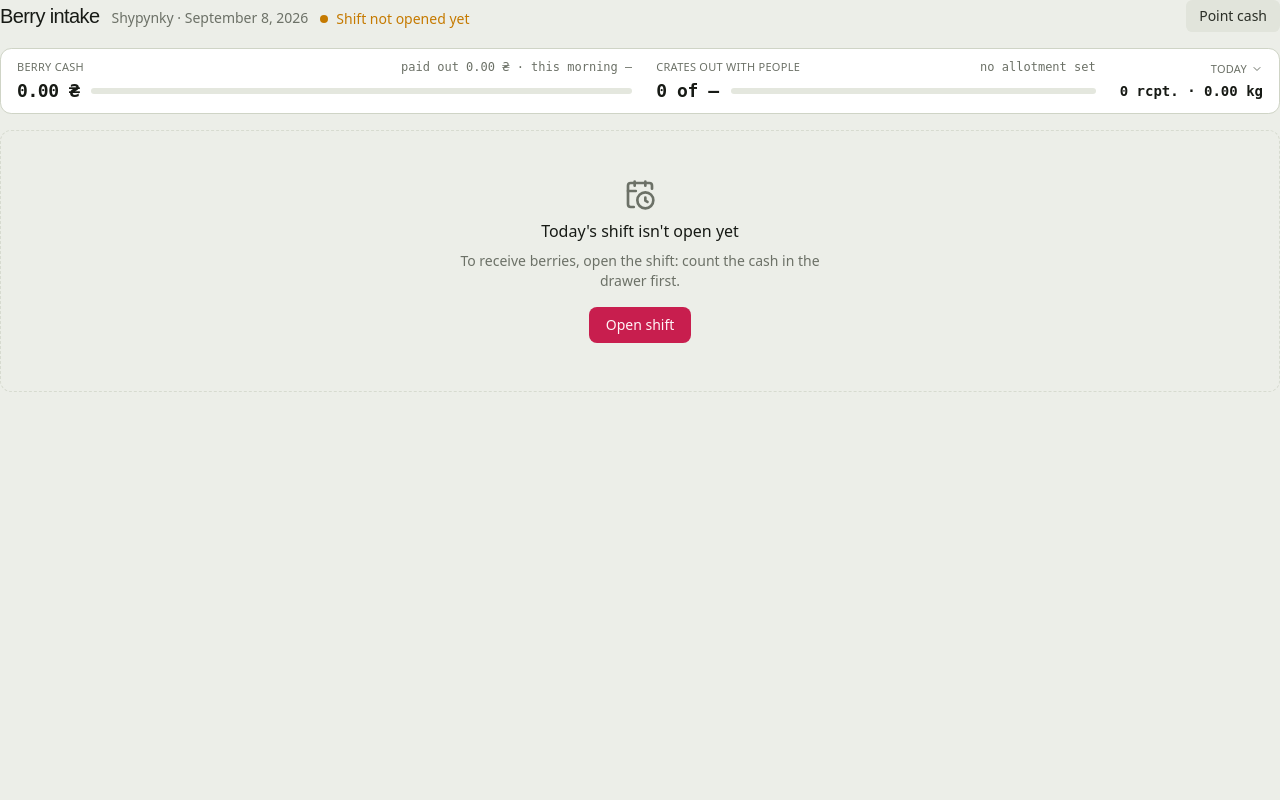
Test case: ReceptionPage — before the shift is open › shows the refusal in the shared dialog and keeps it open when opening fails
Click the button "Open shift".
click(640, 325)  # box [589,307,691,343]
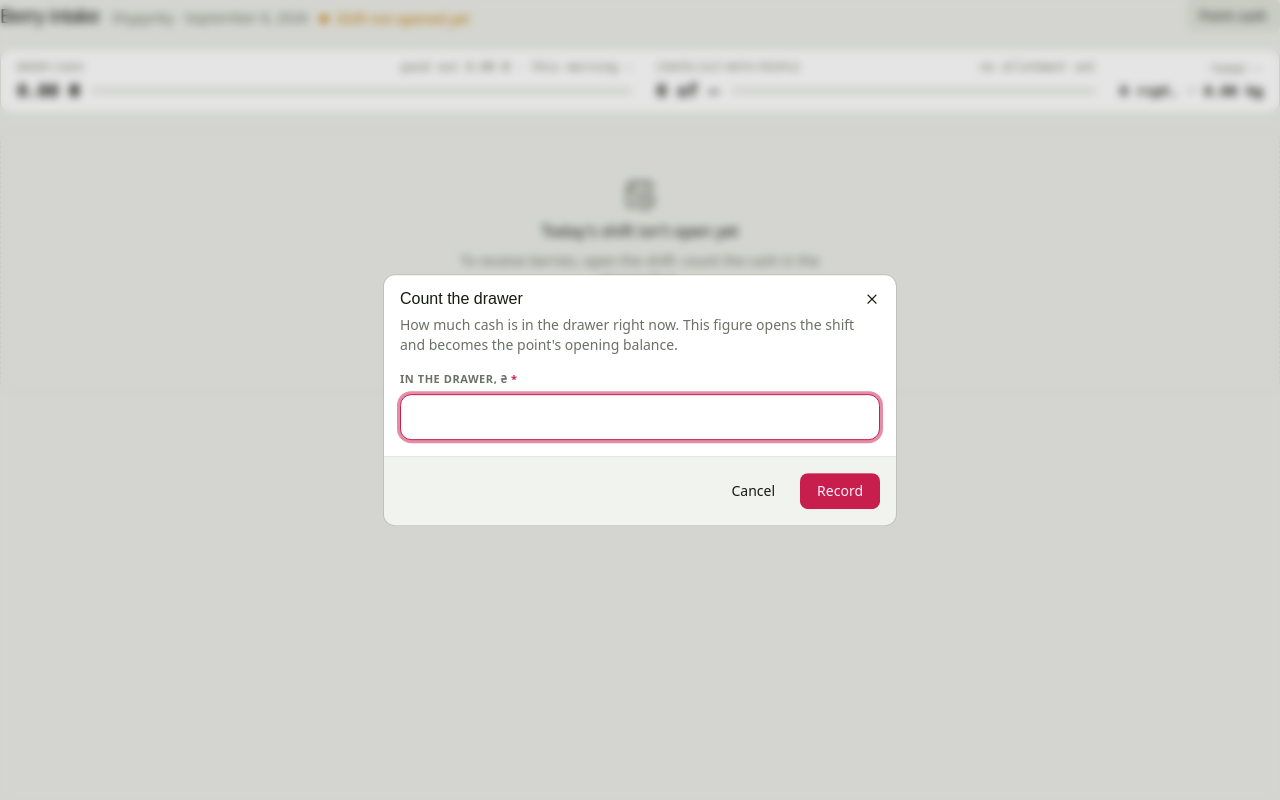
Type "1500.00" into the field.
click(640, 417); type("1500.00")  # box [400,394,880,440]
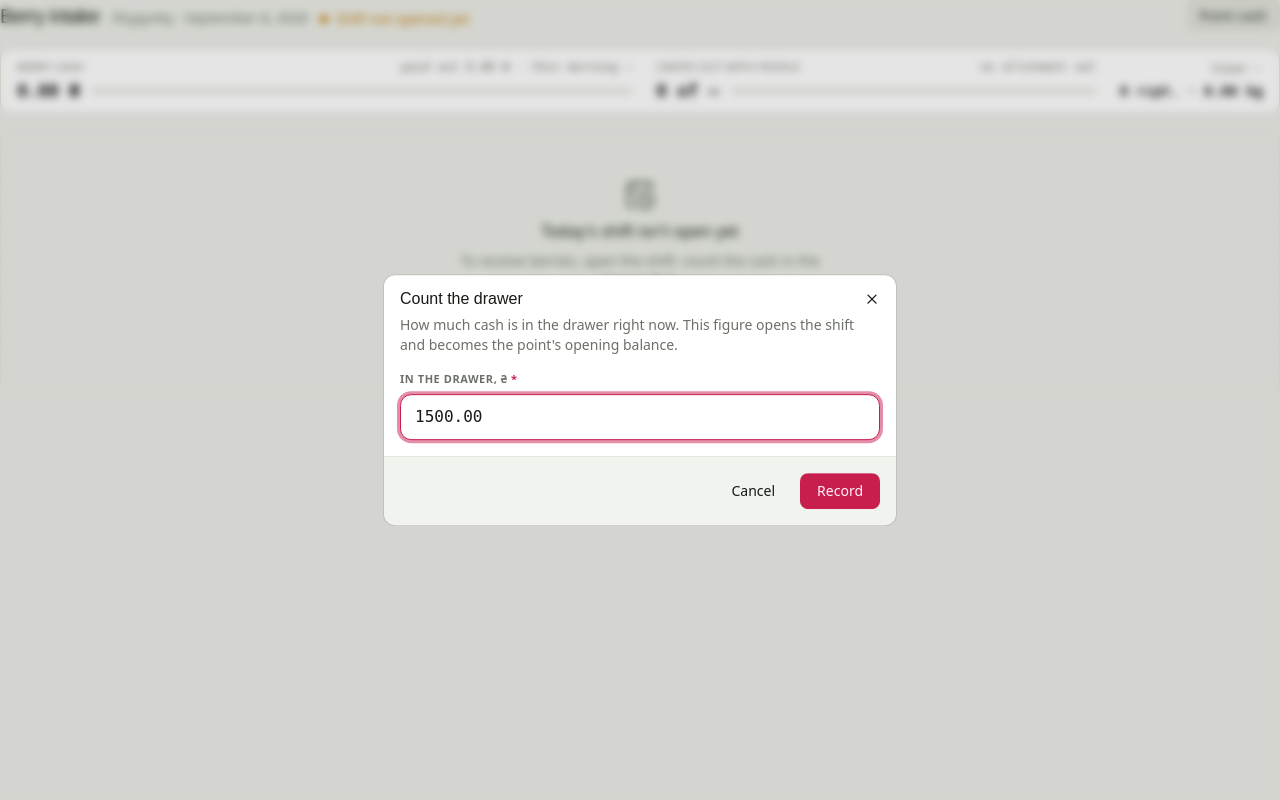
Click the button "Record".
click(840, 491)  # box [800,473,880,509]
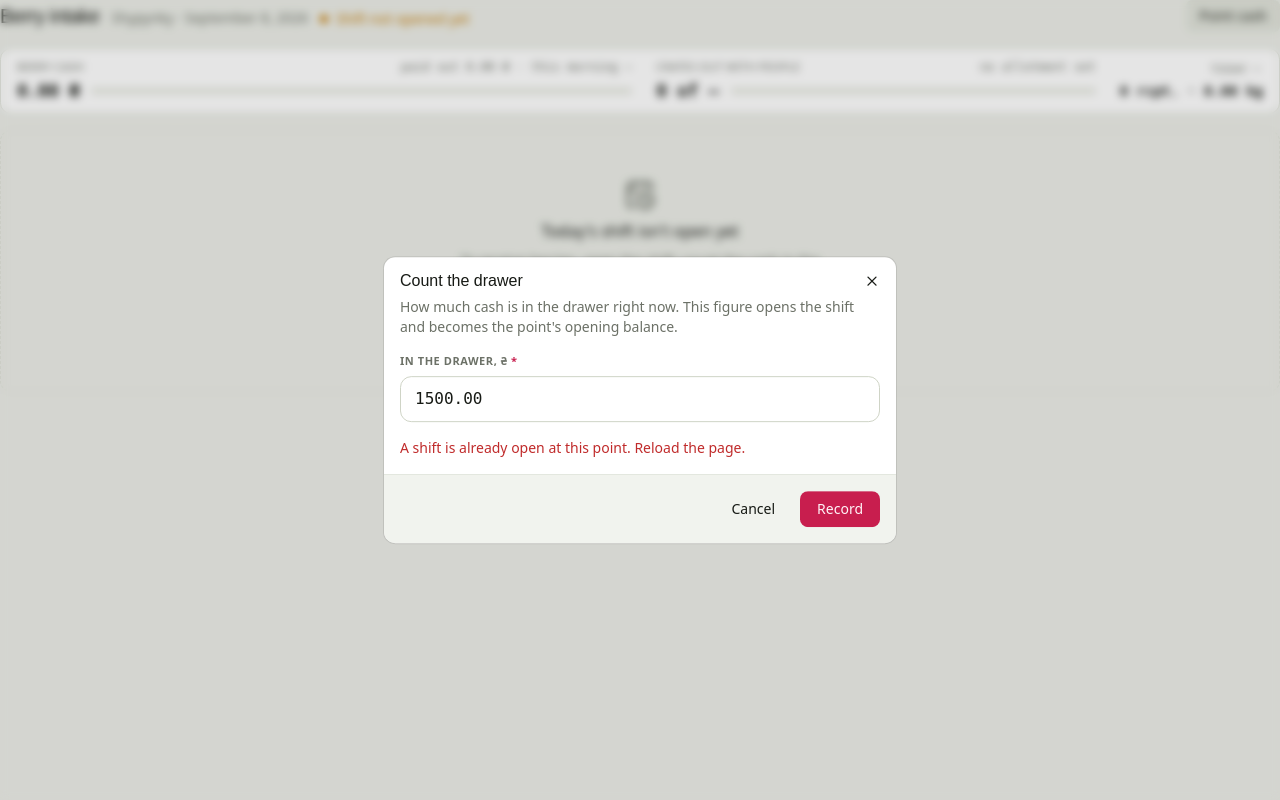
Check: the dialog is shown, box [384,257,896,543]
Check: the message shows "A shift is already open at this point", box [400,438,745,457]
